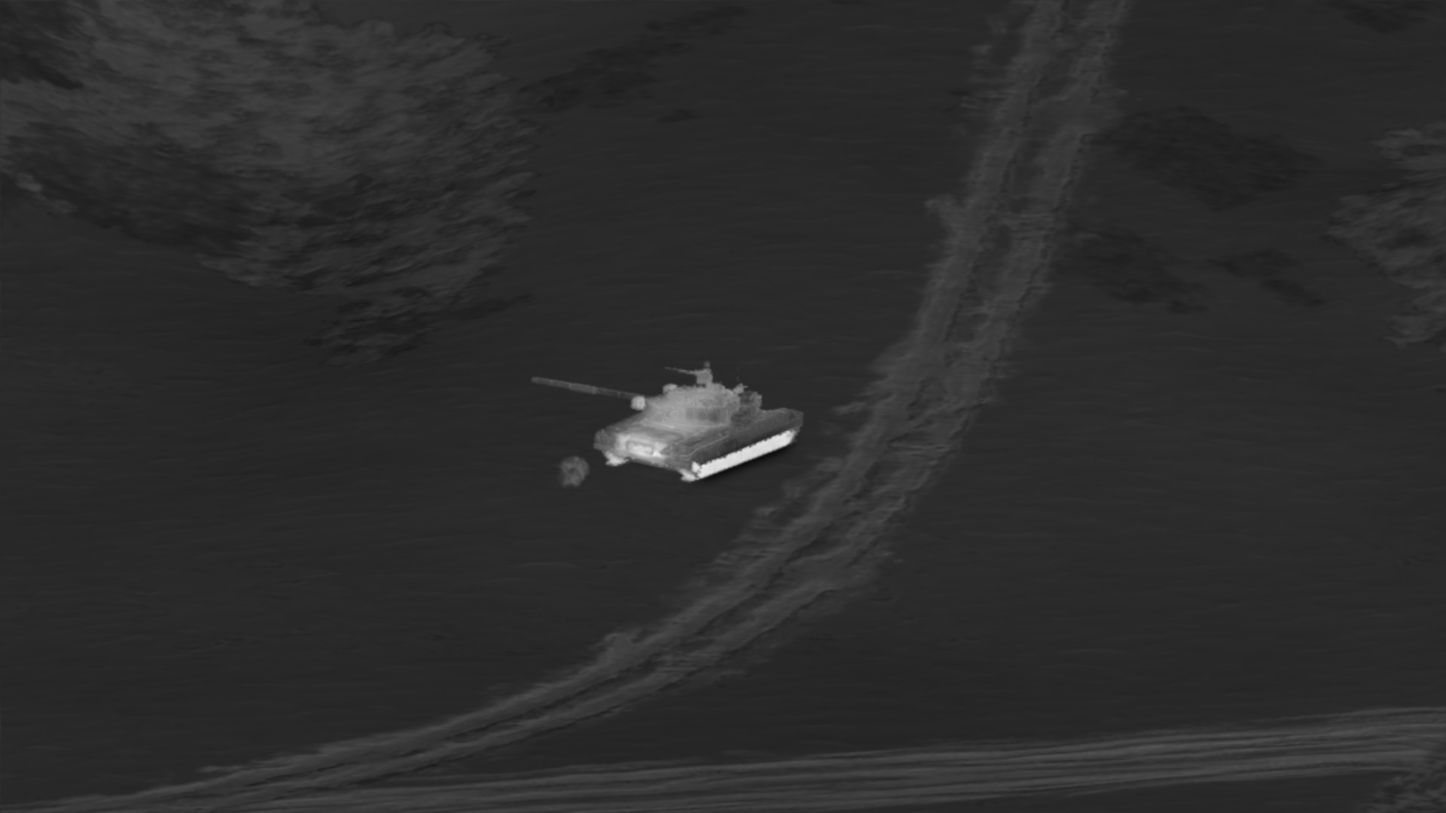t-80u: (530, 361, 803, 482)
